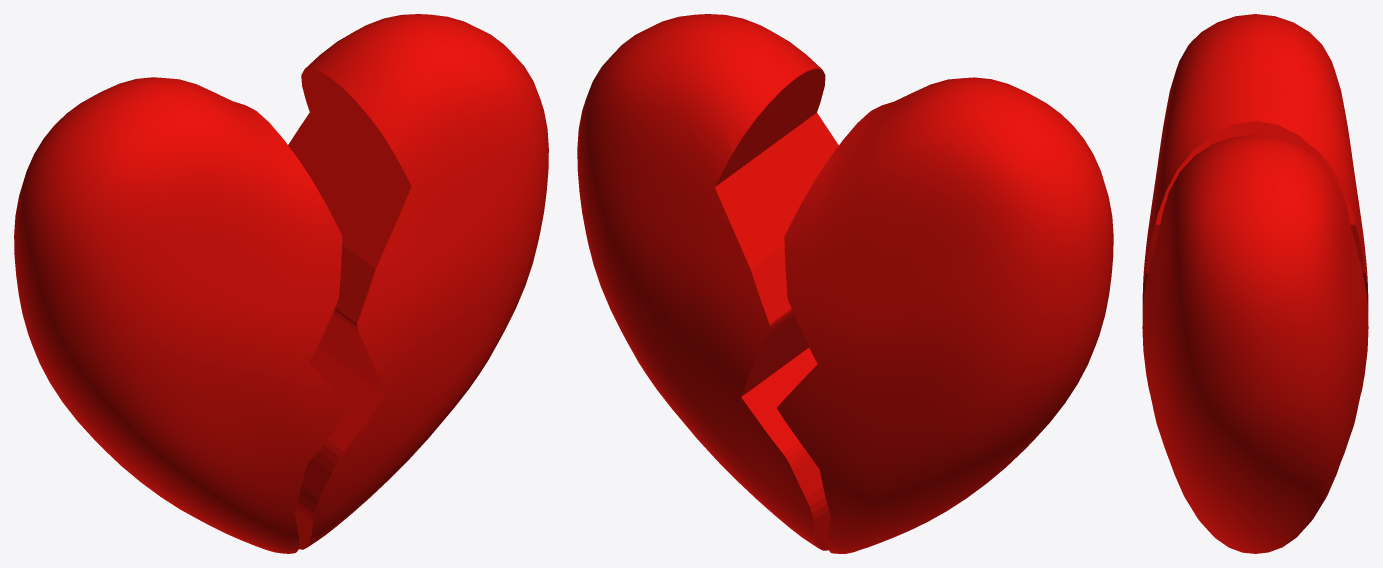
Rendered from kırıkkalp.fbx.
3 renders of one model, left to right at view 1: azimuth 30°, elevation 25°; view 2: azimuth 150°, elevation 25°; view 3: azimuth 270°, elevation 25°, orthographic. The views are drawn at different scales.
Parts seen in each view (by area): view 1: kalpyaralı; view 2: kalpyaralı; view 3: kalpyaralı.
Part boxes in pixels (left/top/right/bottom): kalpyaralı: left=14, top=14, right=548, bottom=553; kalpyaralı: left=577, top=14, right=1113, bottom=553; kalpyaralı: left=1142, top=14, right=1368, bottom=553.
Size of the model in its own units: 6.17 by 5.71 by 2.52.
